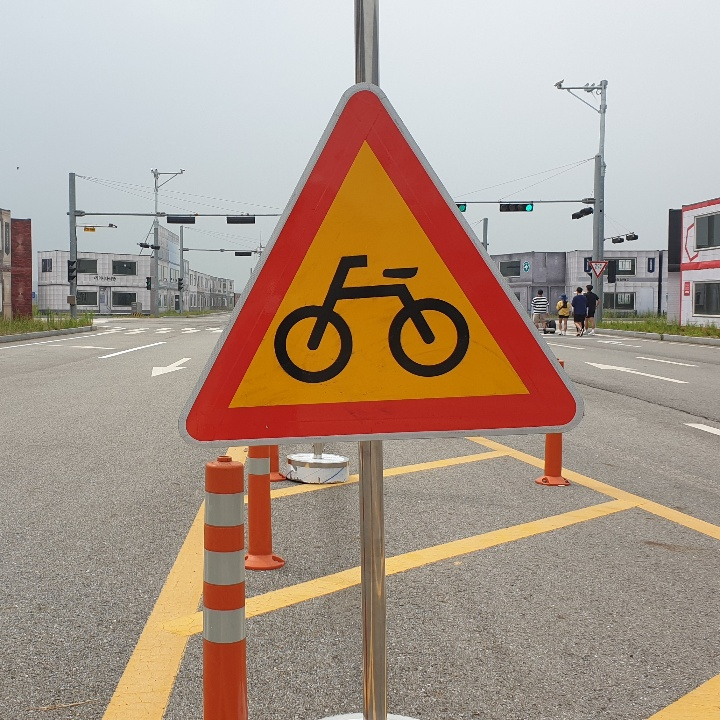bicycle: (181, 85, 586, 430)
